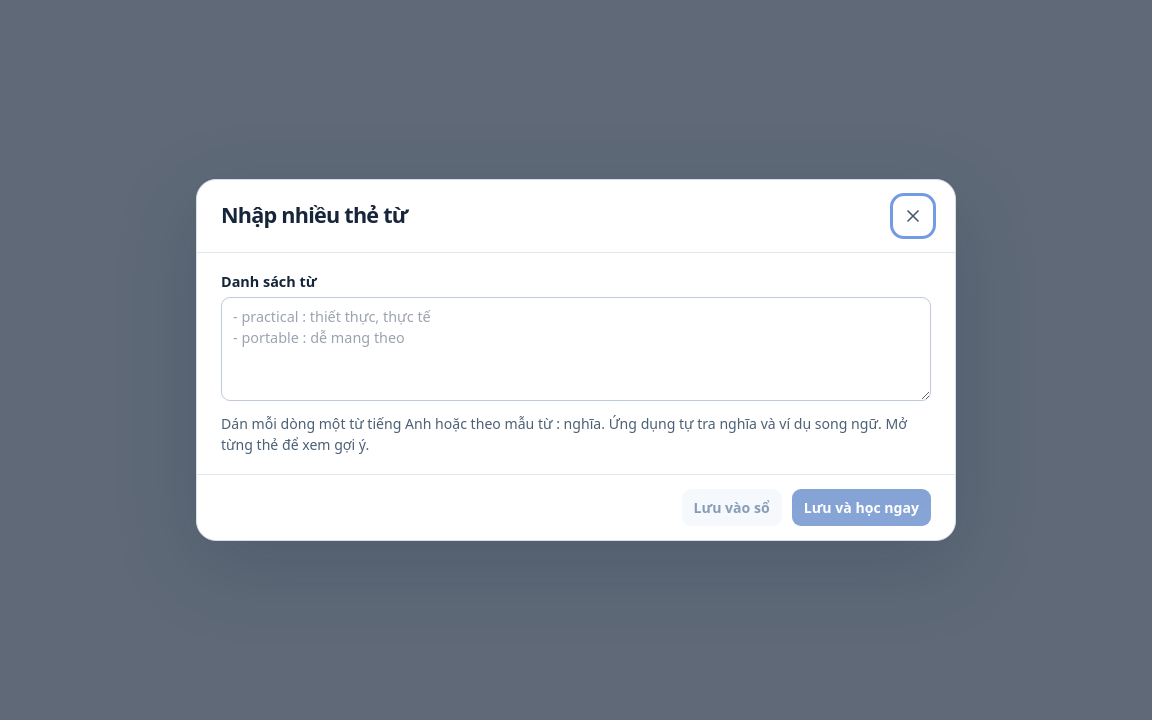
Scenario: automatically looks up a pasted English-only word
Later steps or results of the test are not shown.
Type "marshmallow" into the text box labelled "Danh sách từ" at coordinates (576, 349), box [221,297,931,401]
Wait 900 ms
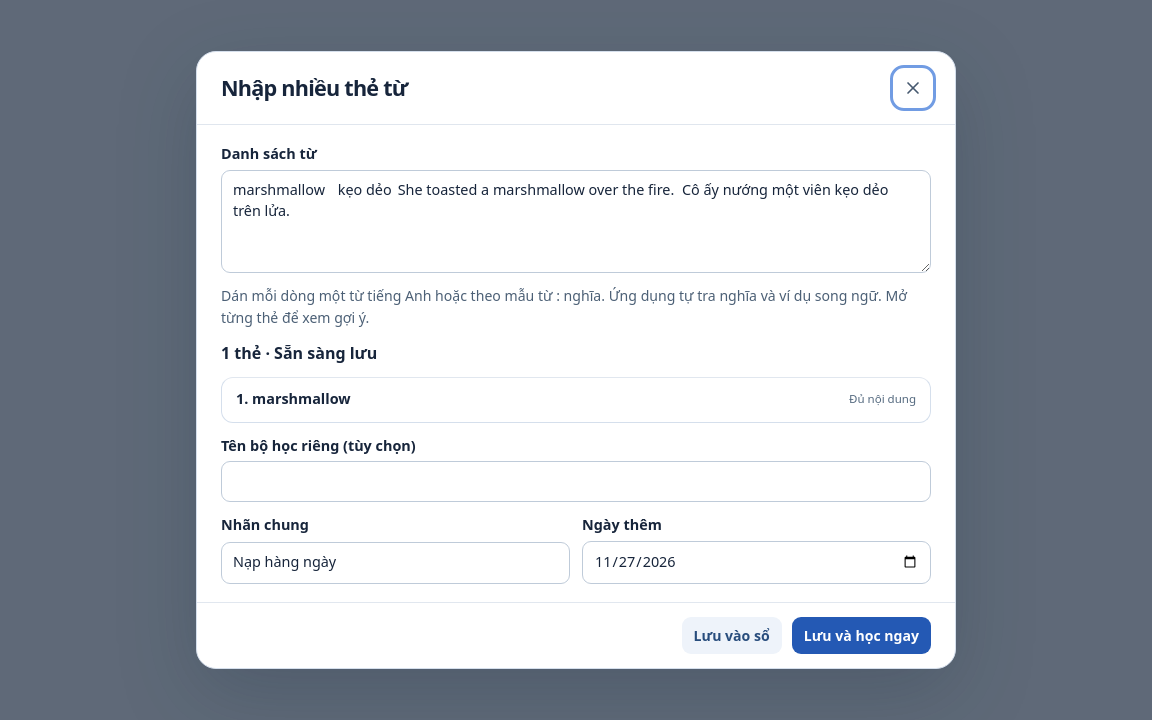
Now the button "Lưu vào sổ" is enabled, box [682,617,782,654]
